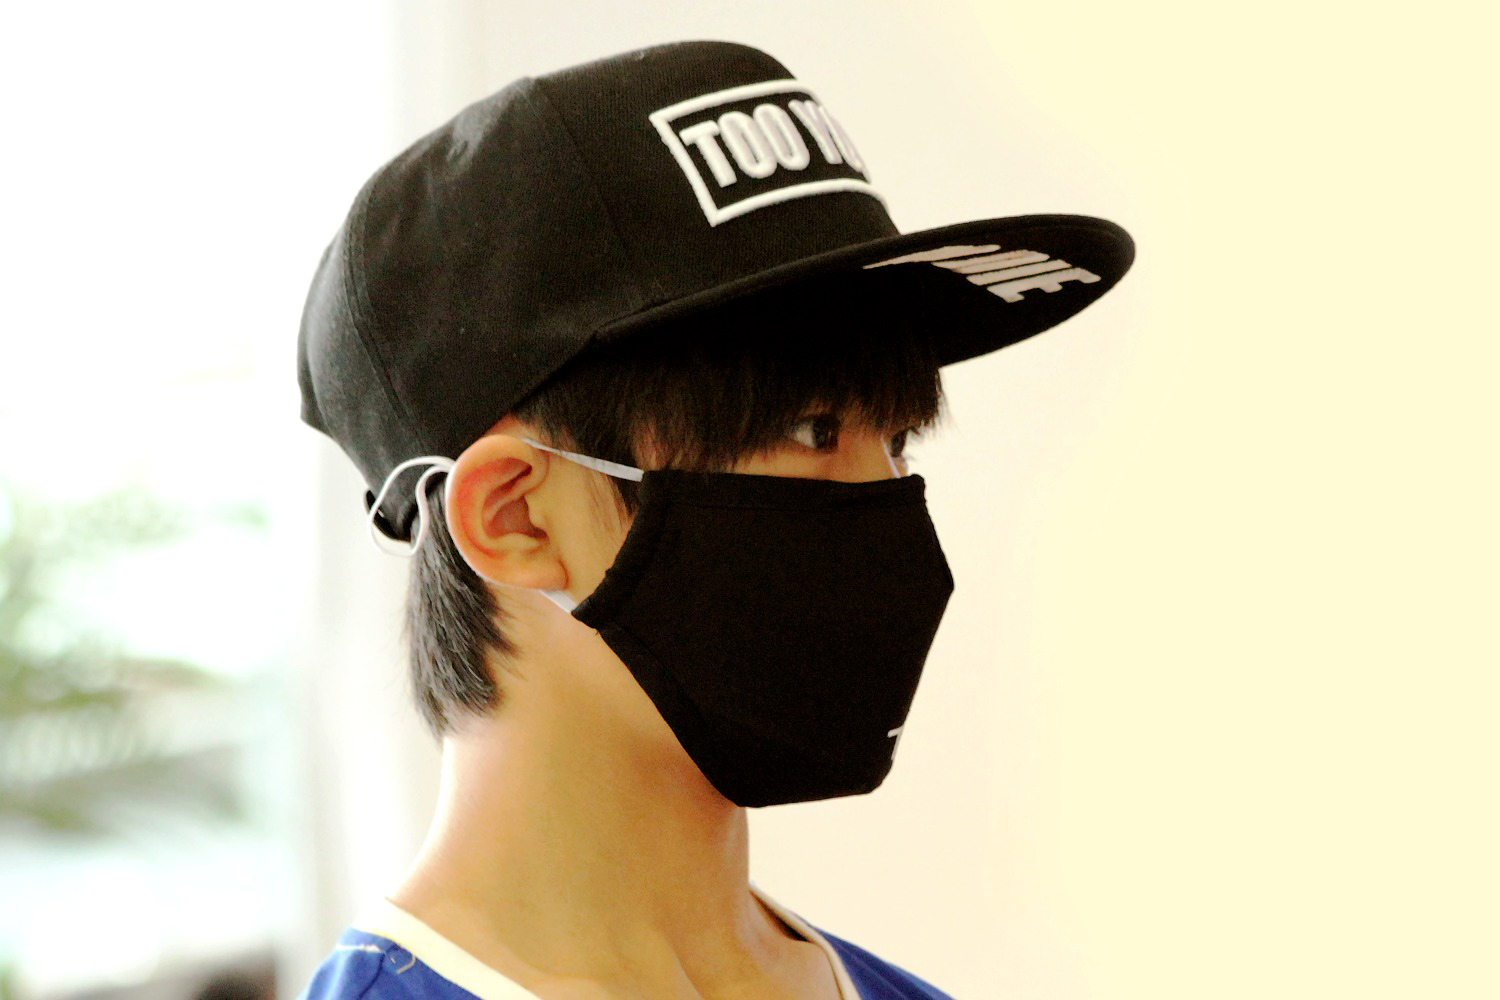face_mask: (670, 303, 957, 802)
